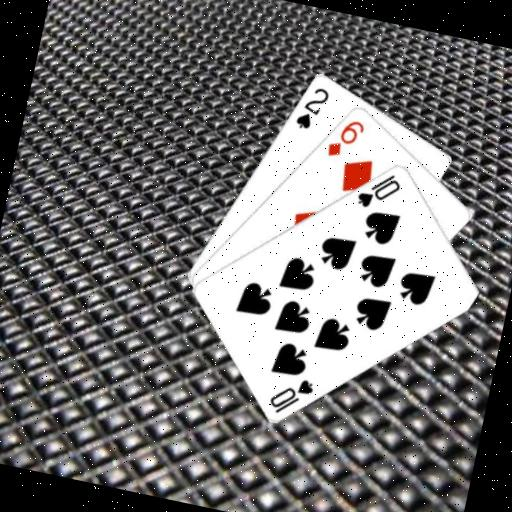10S: (352, 164, 405, 216), (264, 369, 317, 421)
2S: (291, 79, 332, 134)
6D: (322, 111, 368, 163)
